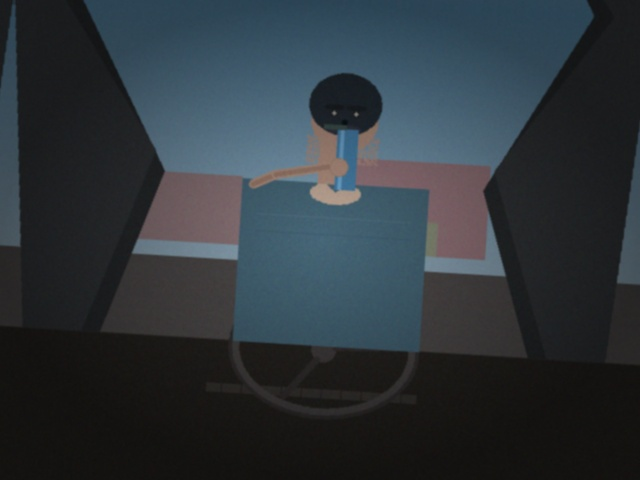drinking: (308, 114, 361, 198)
